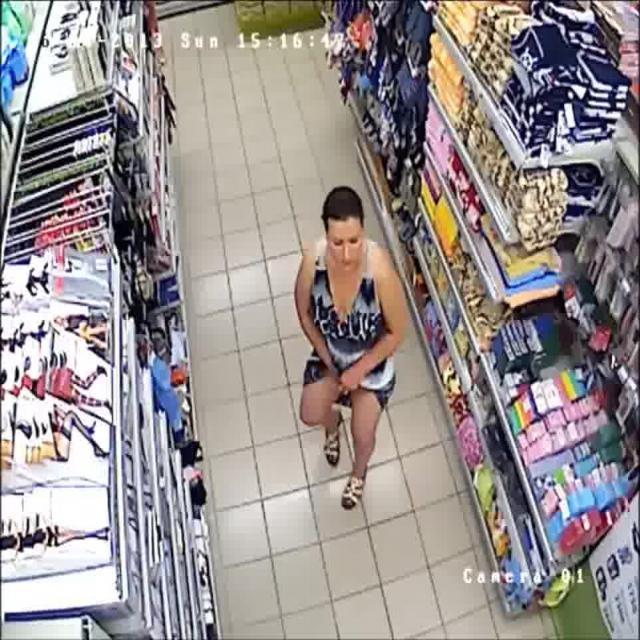Shoplifting: (296, 179, 412, 516)
